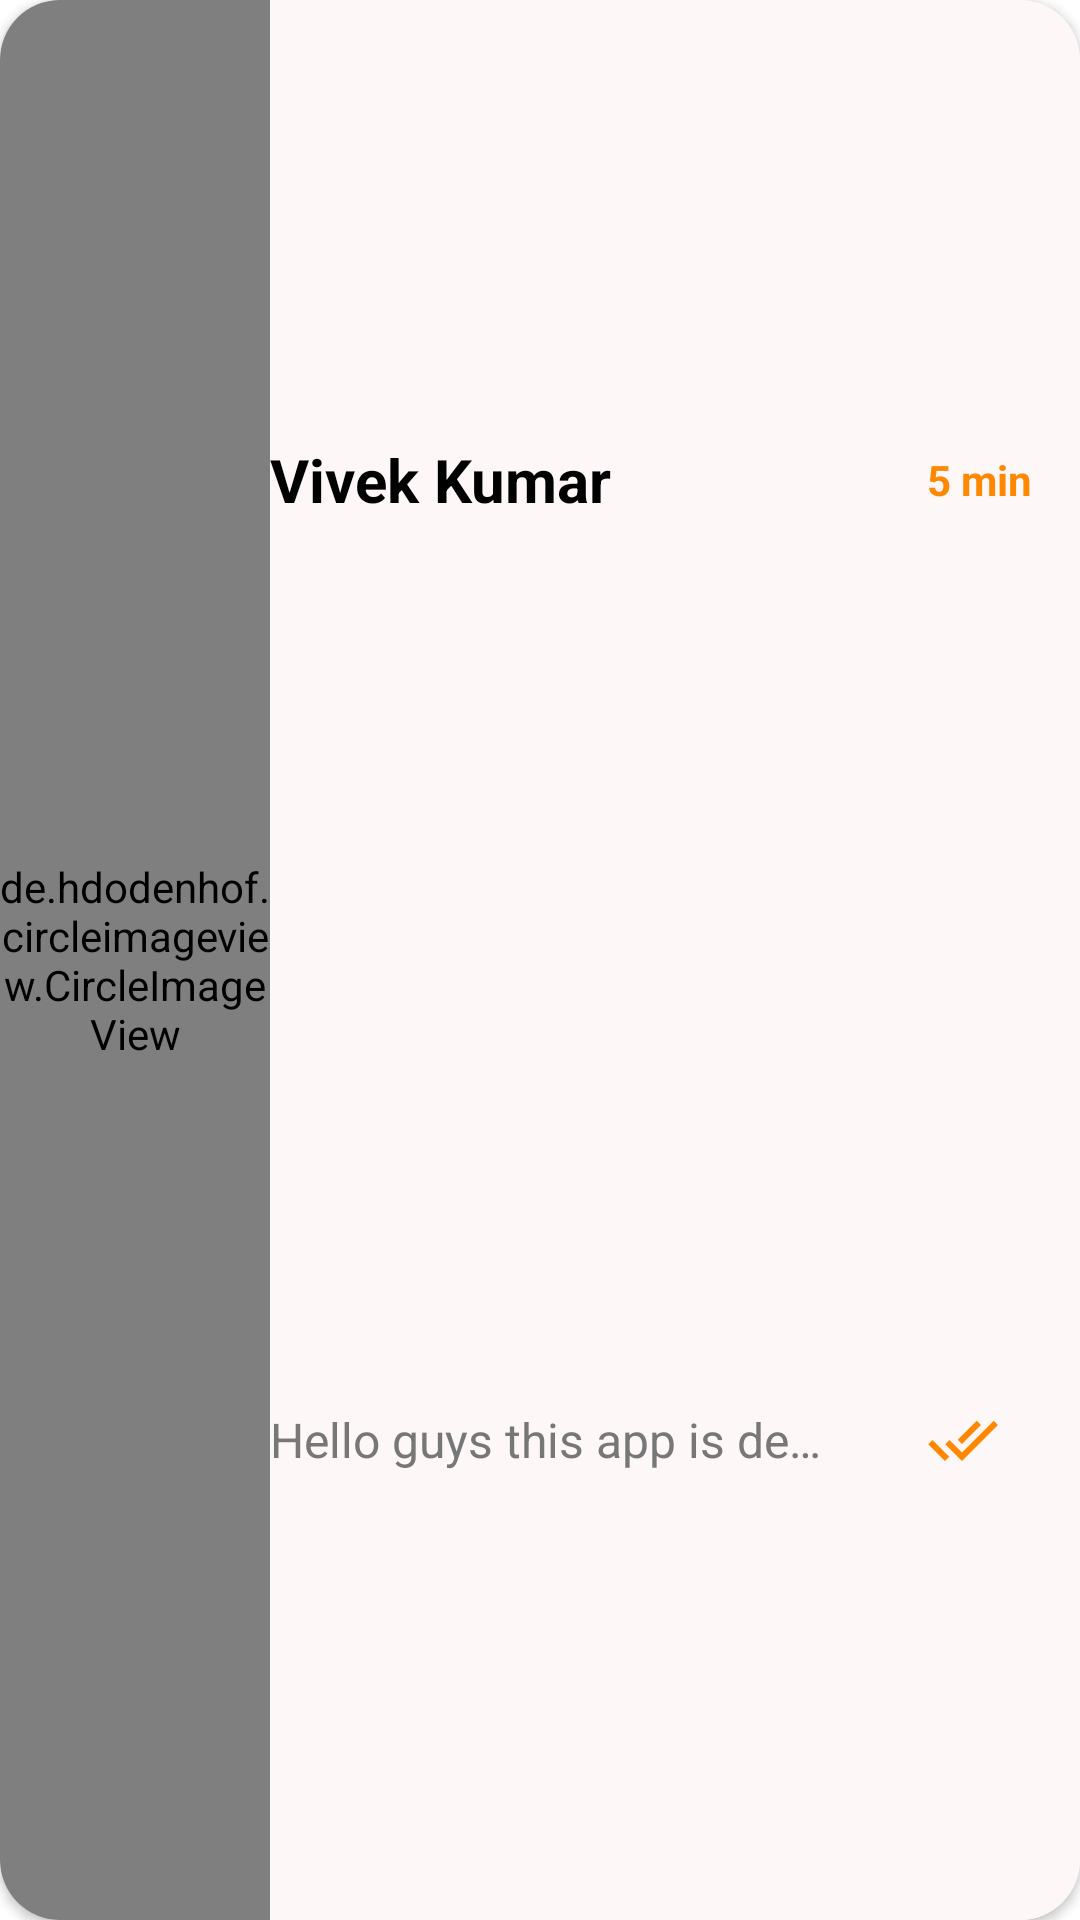

Screen size 1080w x 1920h. Icon name, then its center in pixels as point (x, y):
done all: point (963, 1441)
